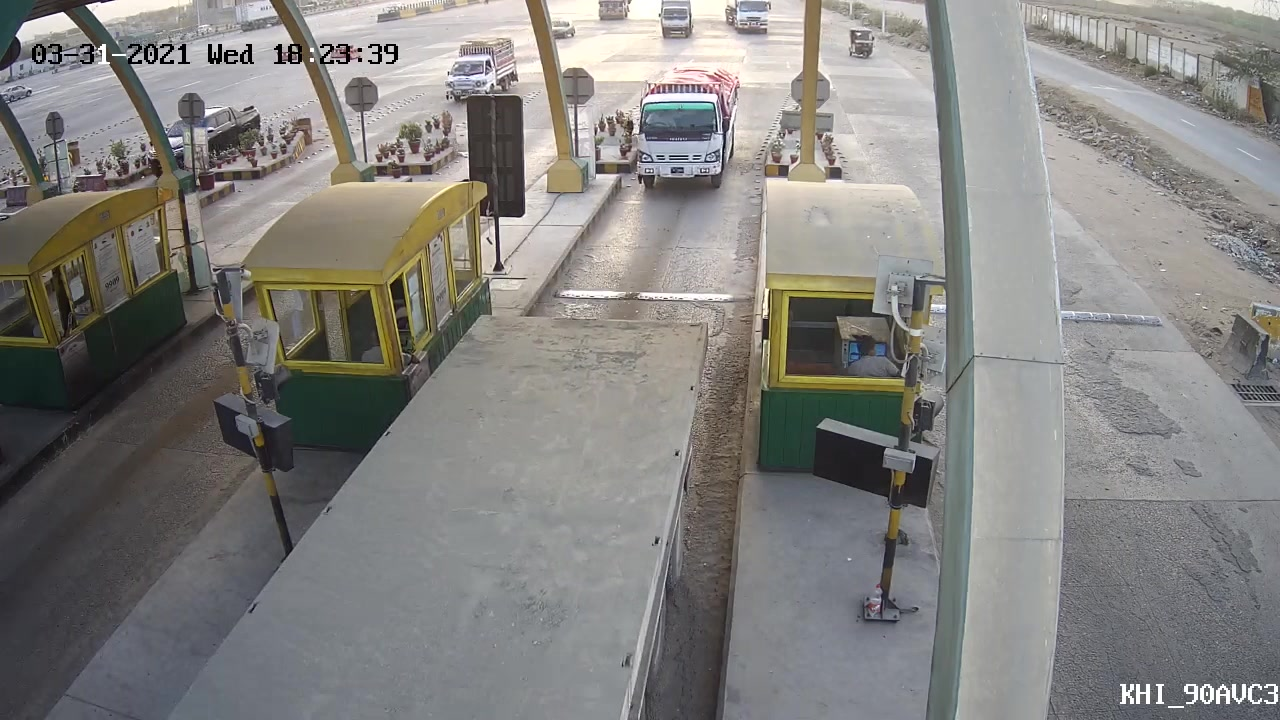F5: (625, 60, 751, 191)
